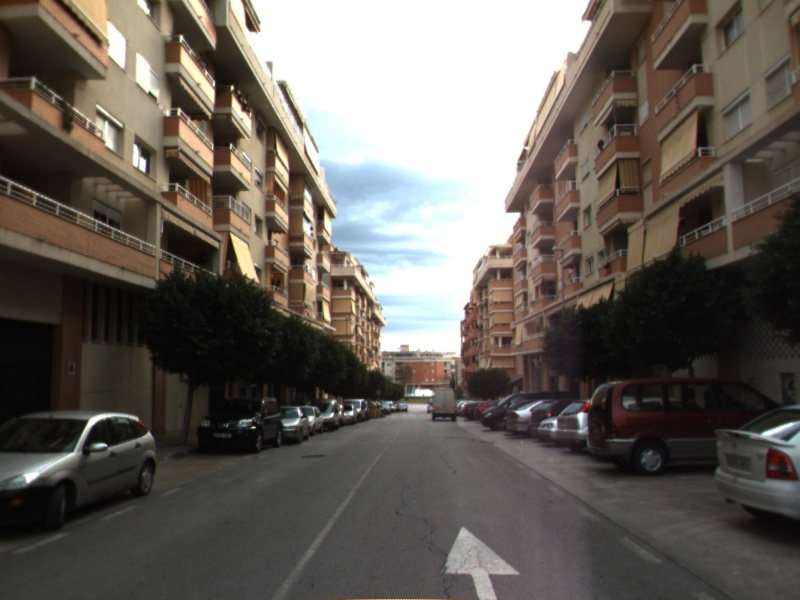STRAIGHT: (436, 523, 524, 600)
